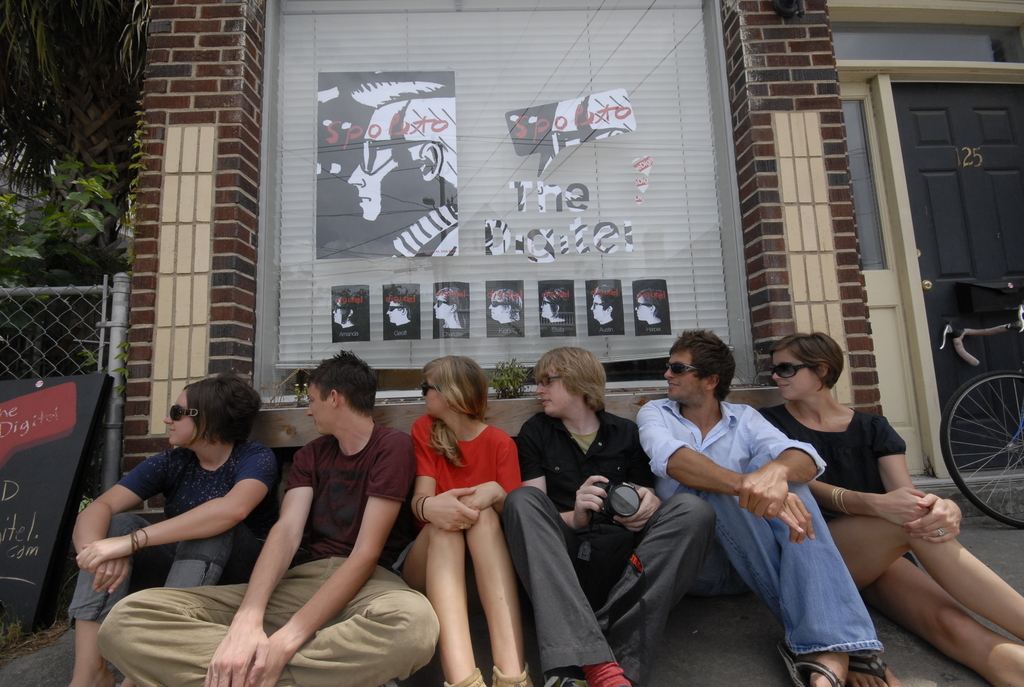Human-face: (346, 99, 409, 223), (772, 348, 818, 402), (663, 349, 705, 403), (162, 390, 196, 448), (535, 377, 579, 419), (307, 383, 332, 436), (419, 379, 448, 416), (589, 294, 607, 321), (634, 296, 650, 321), (488, 304, 507, 321), (386, 303, 403, 321), (432, 303, 449, 320), (540, 297, 553, 319), (332, 304, 342, 324)
